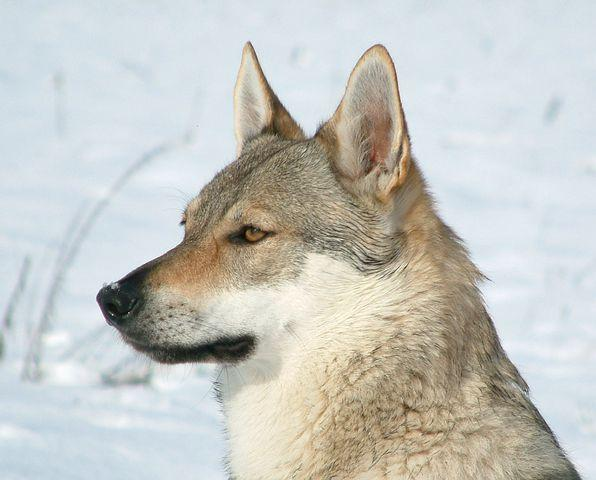Wolf: (95, 39, 584, 480)
